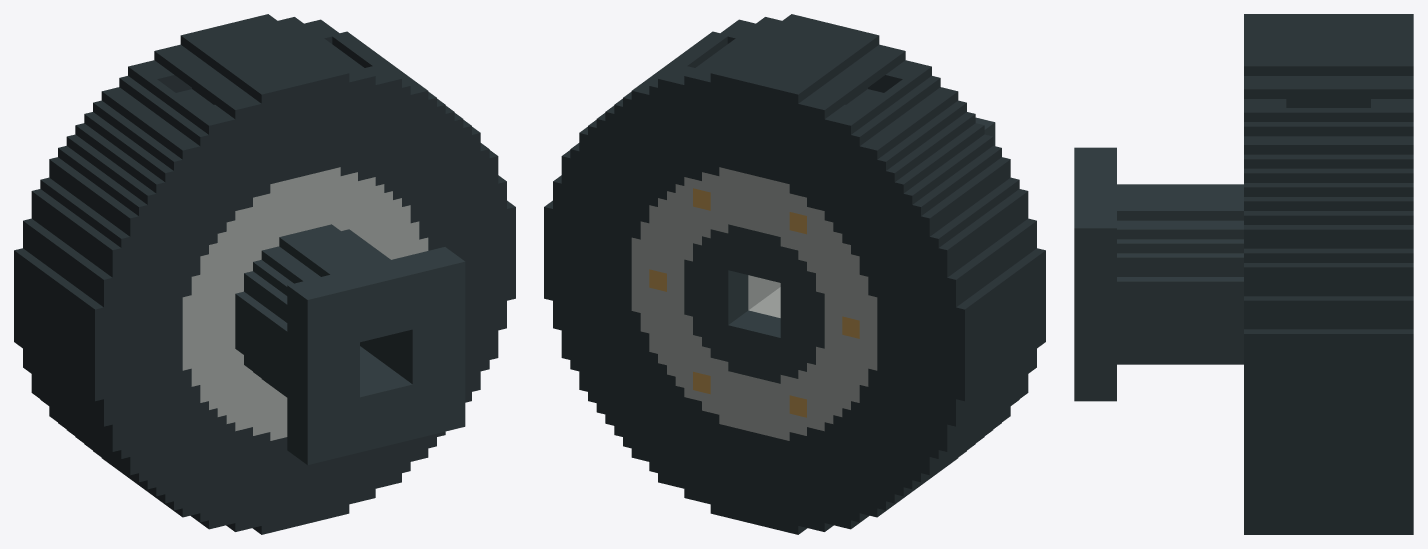
3 renders of one model, left to right at view 1: azimuth 30°, elevation 25°; view 2: azimuth 150°, elevation 25°; view 3: azimuth 270°, elevation 25°, orthographic. The views are drawn at different scales.
Parts seen in each view (by area): view 1: 城市道路载具轮胎轮毂组件; view 2: 城市道路载具轮胎轮毂组件; view 3: 城市道路载具轮胎轮毂组件.
Boxes of the visible parts, bbox=[...] form: 城市道路载具轮胎轮毂组件: bbox=[14, 14, 515, 534]; 城市道路载具轮胎轮毂组件: bbox=[544, 14, 1045, 534]; 城市道路载具轮胎轮毂组件: bbox=[1074, 14, 1413, 534].
Bounding box in the file's own units: 1.2 × 1.2 × 0.8.
4 materials, 4 textured.
